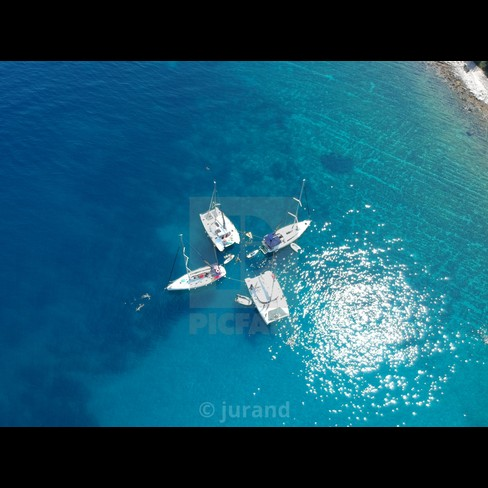boat: (256, 176, 313, 263), (195, 175, 243, 256), (163, 253, 228, 299), (244, 268, 292, 330)
